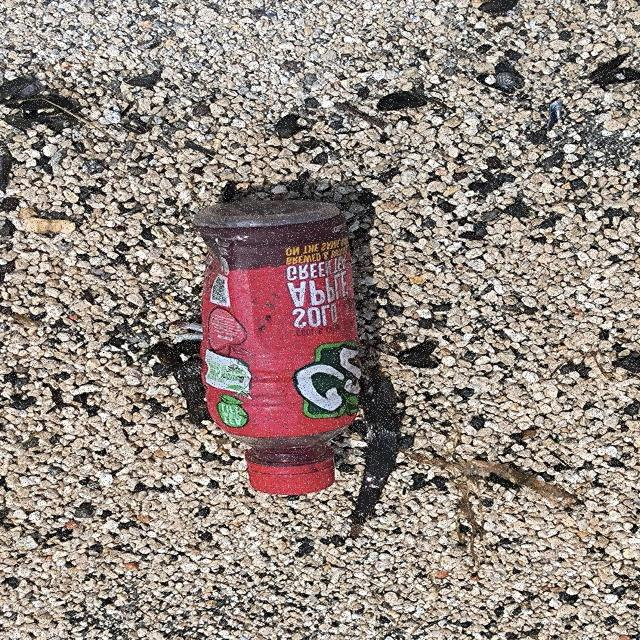plastic_waste: (191, 200, 367, 497)
